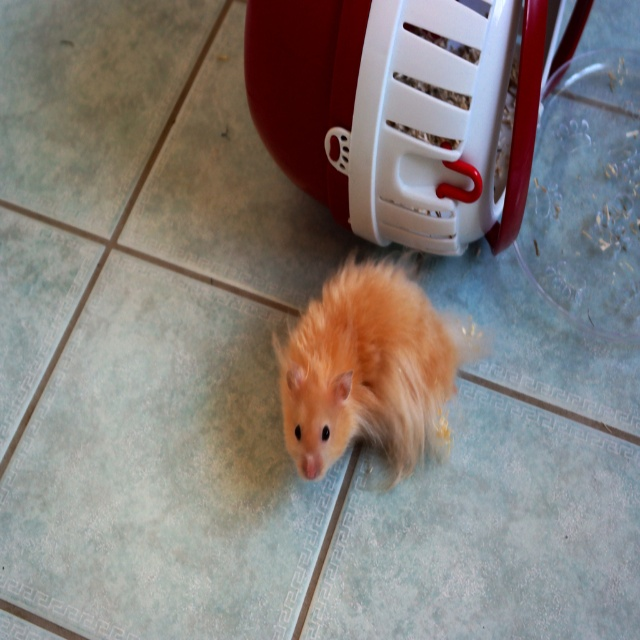Hamster: (267, 241, 476, 497)
